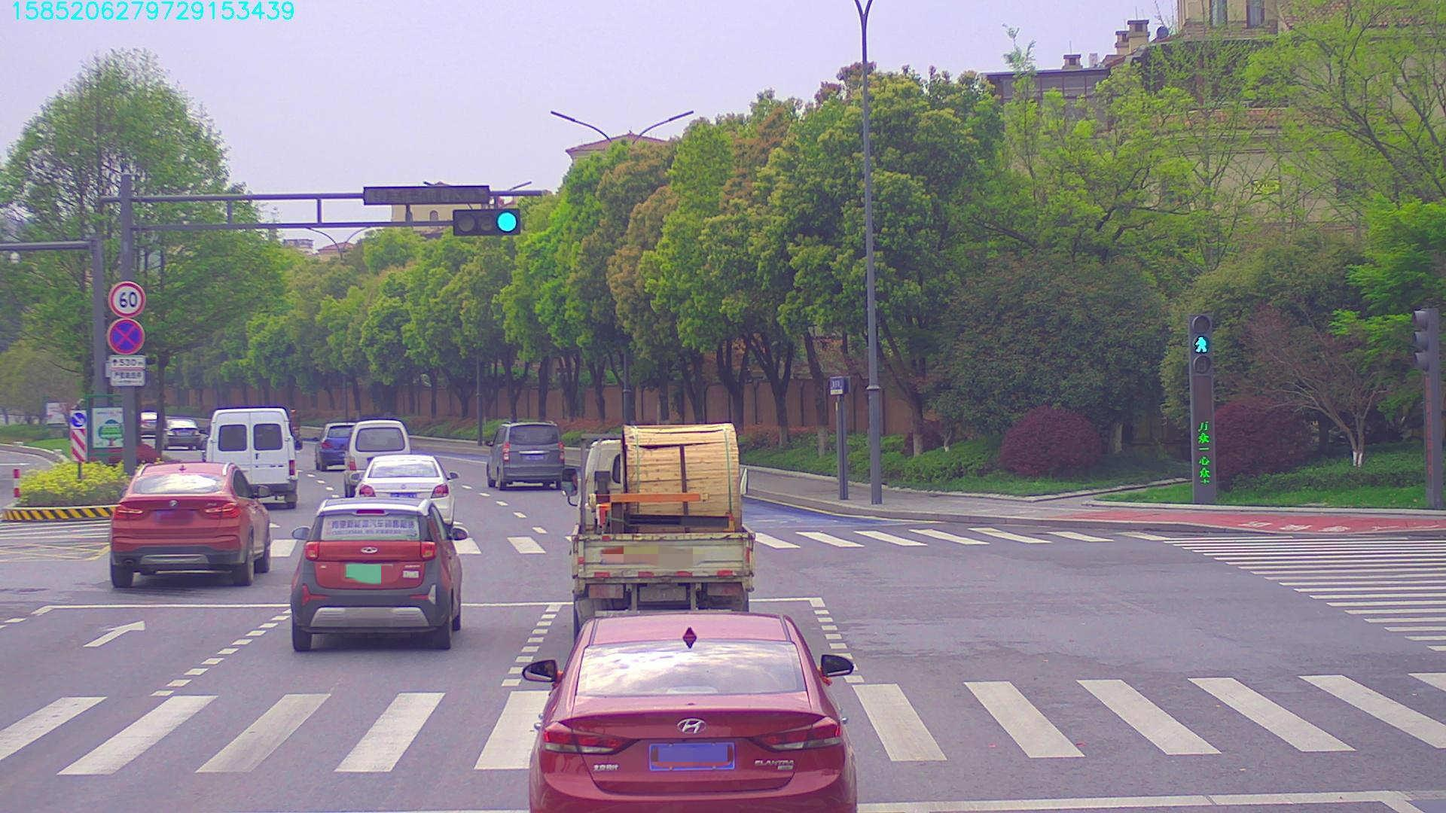green: (448, 206, 519, 237)
